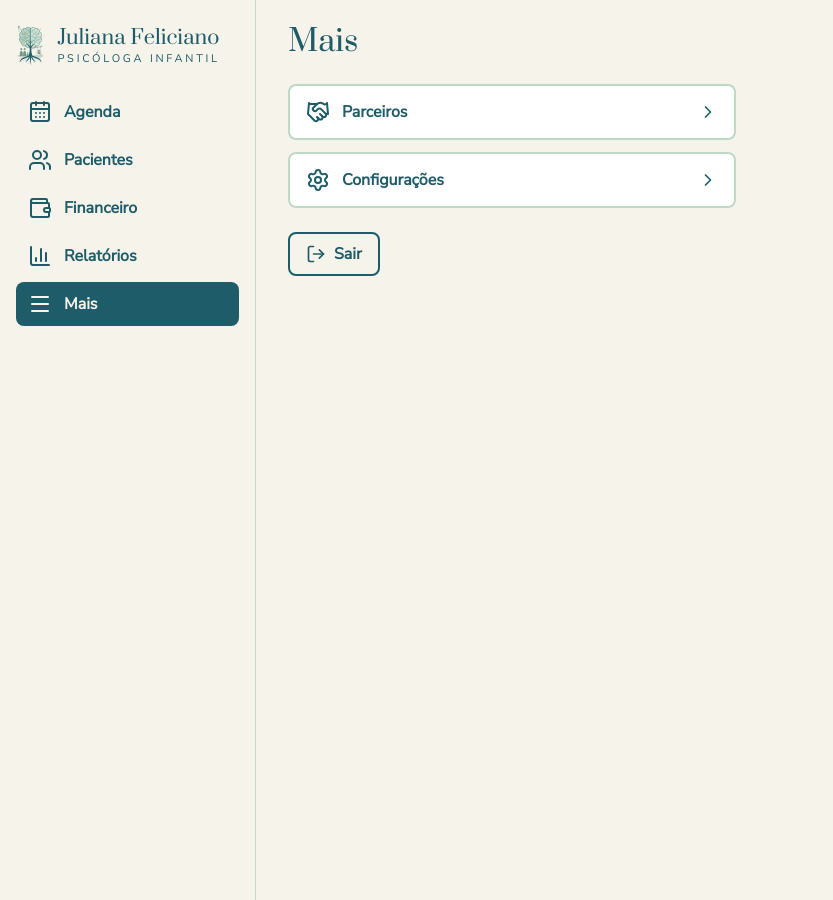
it: Sair (aba Mais) › "Sair" encerra a sessão e volta para /entrar
Click the button "Sair": click(334, 254) top-left (288, 232), bottom-right (380, 276)
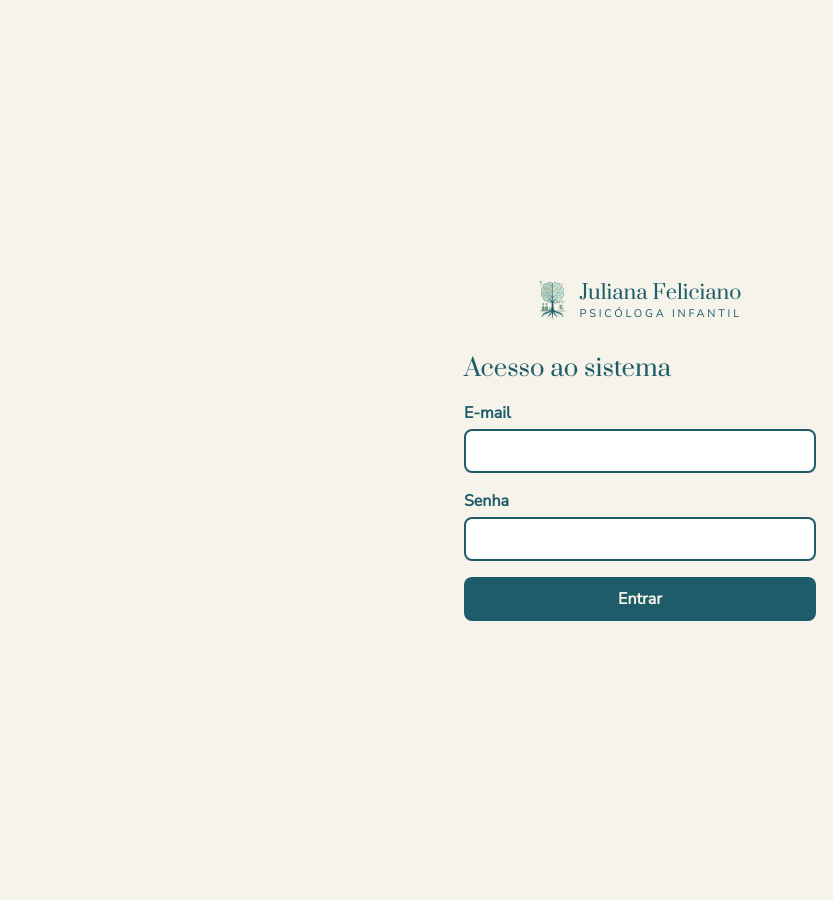
Check: the field labelled "E-mail" is shown, box top-left (464, 429), bottom-right (816, 473)
